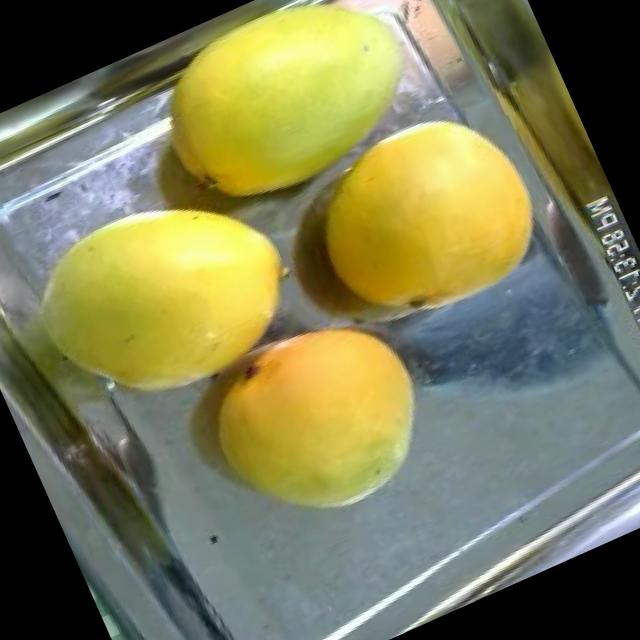fruit: (0, 142, 335, 462), (156, 265, 472, 573), (119, 0, 463, 246), (273, 77, 572, 360)
